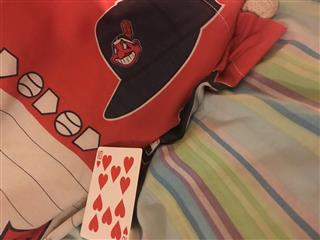TenOfHearts: (78, 145, 143, 240)
